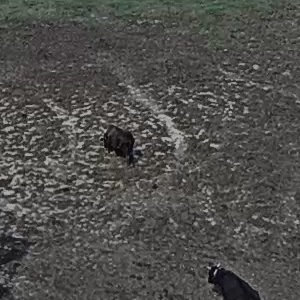cow: (88, 105, 154, 179), (196, 253, 268, 299)
